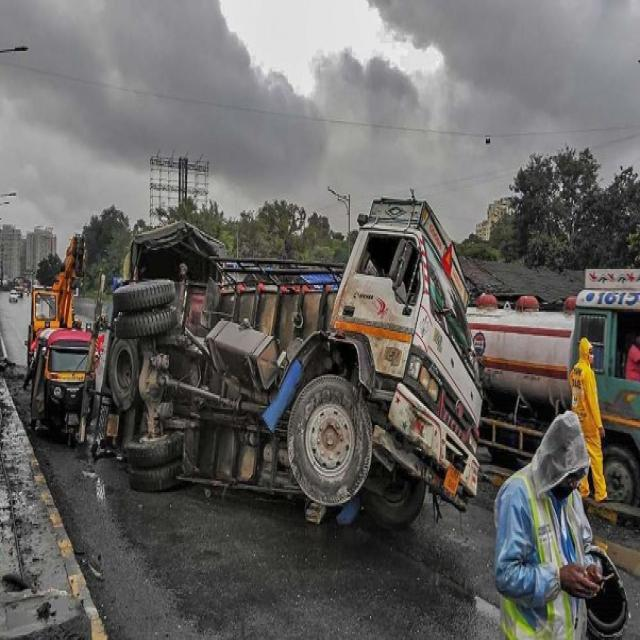accident: (82, 198, 481, 528)
autorickshaw: (25, 328, 90, 439)
truck: (468, 270, 640, 504)
